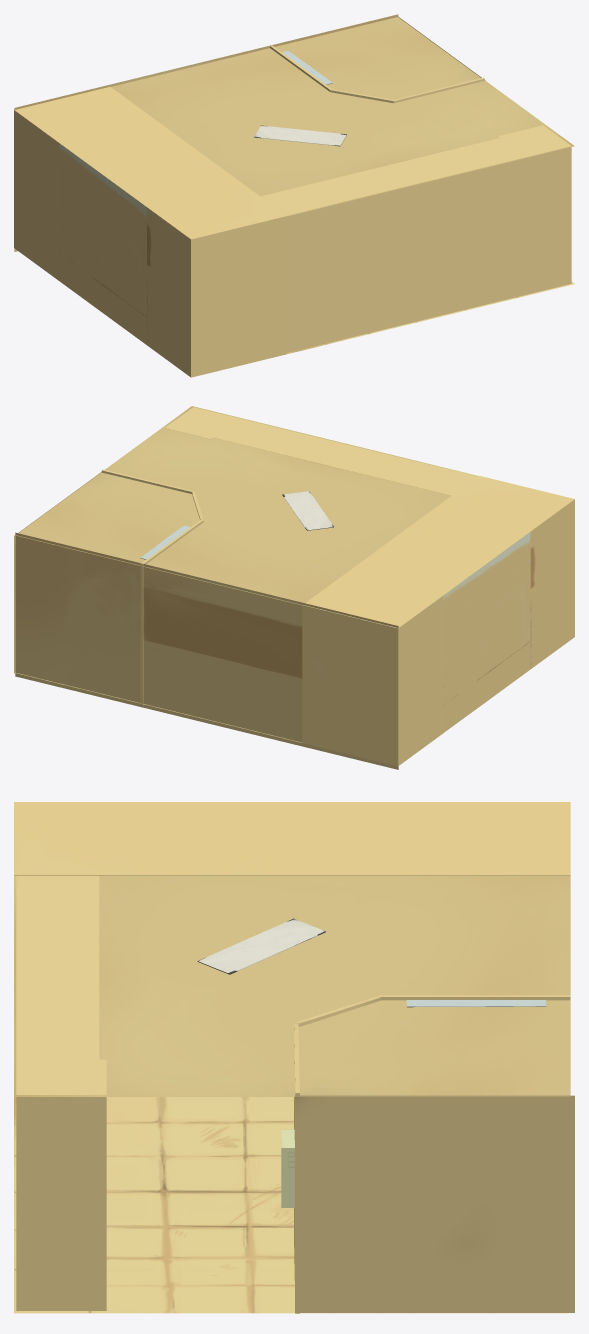
The model's file is NotmalRoom.fbx.
3 views of the same model, one above another, from view 1: azimuth 30°, elevation 25°; view 2: azimuth 150°, elevation 25°; view 3: azimuth 270°, elevation 25° (orthographic). The views are drawn at different scales.
Parts seen in each view (by area): view 1: Plane, Meuble, Ceiling, Plane.001, Room Light, Bathroom Walls; view 2: Plane, Plane.001, Ceiling, Meuble, Bathroom Walls, Room Light; view 3: Ceiling, Plane, Plane.002, Meuble, Room Light, Bathroom Walls, Intercom, Bathroom Light.
Part boxes in pixels (left/top/right/bottom): Plane: left=14, top=86, right=574, bottom=377; Meuble: left=260, top=125, right=571, bottom=352; Ceiling: left=111, top=17, right=574, bottom=216; Plane.001: left=14, top=14, right=398, bottom=251; Room Light: left=254, top=125, right=346, bottom=146; Bathroom Walls: left=270, top=45, right=484, bottom=103; Plane: left=15, top=475, right=574, bottom=766; Plane.001: left=15, top=532, right=398, bottom=769; Ceiling: left=16, top=406, right=478, bottom=605; Meuble: left=165, top=407, right=477, bottom=495; Bathroom Walls: left=101, top=469, right=203, bottom=705; Room Light: left=282, top=491, right=333, bottom=530; Ceiling: left=14, top=876, right=570, bottom=1096; Plane: left=14, top=802, right=570, bottom=1313; Plane.002: left=295, top=1095, right=574, bottom=1312; Meuble: left=16, top=876, right=106, bottom=1310; Room Light: left=197, top=918, right=325, bottom=974; Bathroom Walls: left=294, top=995, right=570, bottom=1313; Intercom: left=281, top=1129, right=294, bottom=1207; Bathroom Light: left=406, top=1000, right=546, bottom=1007.
Size of the model in its own units: 1000 by 359 by 805.
